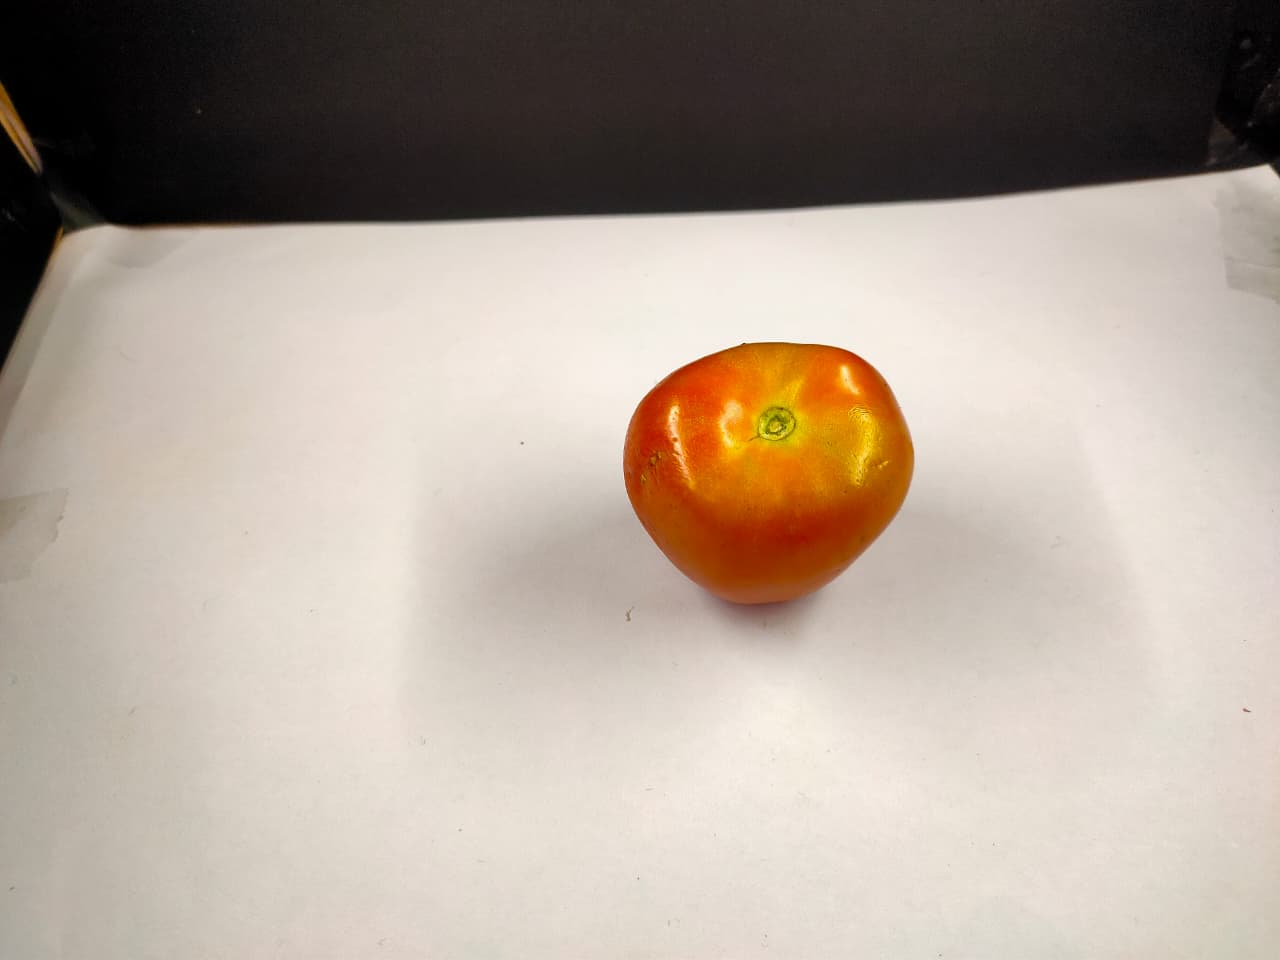unripe: (625, 323, 919, 630)
